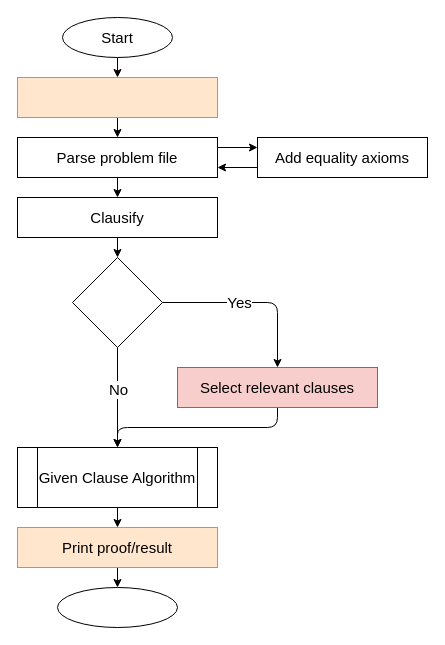
This 445x645 diagram has some shape labels left out. Here are the shapes that lost their labels. From the top down, the centre of each, then its label:
At point (117, 97): "Process command line options".
At point (117, 302): "Selection specified?".
At point (117, 607): "End".
